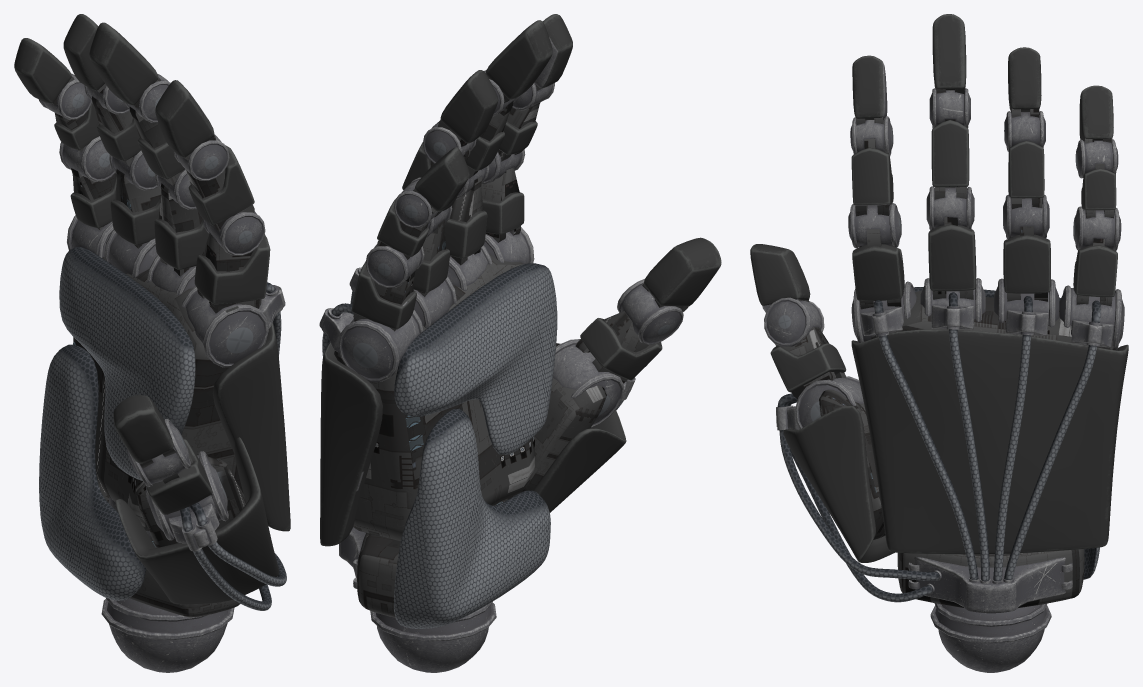
File: robotic_hand.glb
3 views of the same model, side by side, from view 1: azimuth 30°, elevation 25°; view 2: azimuth 150°, elevation 25°; view 3: azimuth 270°, elevation 25° (orthographic). The views are drawn at different scales.
Visible parts, largest first — view 1: pCube41, pCube42, pCube43, pCube26, pCube19, pSphere5, polySurface3, pCube20, polySurface19, polySurface17, pCube21, pCube22 (+13 smaller); view 2: pCube41, pCube42, pSphere5, pCube26, pCube24, polySurface28, polySurface19, polySurface3, pCube43, polySurface31, polySurface1, pCube19 (+12 smaller); view 3: pCube26, polySurface39, pCube43, polySurface3, pCube27, polySurface19, polySurface28, pCube21, pCube22, pCube20, polySurface12, pCube24 (+14 smaller).
Part boxes in pixels (left/top/right/bottom): pCube41: left=39, top=344, right=146, bottom=600; pCube42: left=59, top=246, right=195, bottom=480; pCube43: left=115, top=437, right=279, bottom=604; pCube26: left=212, top=322, right=290, bottom=531; pCube19: left=182, top=232, right=270, bottom=367; pSphere5: left=73, top=257, right=243, bottom=537; polySurface3: left=100, top=488, right=245, bottom=639; pCube20: left=186, top=145, right=265, bottom=255; polySurface19: left=113, top=395, right=190, bottom=486; polySurface17: left=155, top=80, right=229, bottom=180; pCube21: left=147, top=183, right=208, bottom=295; pCube22: left=104, top=169, right=161, bottom=278; pCube41: left=393, top=408, right=550, bottom=628; pCube42: left=394, top=263, right=557, bottom=454; pSphere5: left=334, top=254, right=534, bottom=541; pCube26: left=320, top=342, right=382, bottom=546; pCube24: left=338, top=261, right=423, bottom=381; polySurface28: left=553, top=311, right=662, bottom=427; polySurface19: left=617, top=237, right=721, bottom=344; polySurface3: left=357, top=500, right=504, bottom=641; pCube43: left=504, top=410, right=626, bottom=512; polySurface31: left=422, top=70, right=498, bottom=163; polySurface1: left=507, top=343, right=606, bottom=499; pCube19: left=481, top=167, right=534, bottom=264; pCube26: left=851, top=329, right=1128, bottom=554; polySurface39: left=777, top=292, right=1100, bottom=602; pCube43: left=783, top=406, right=895, bottom=562; polySurface3: left=897, top=549, right=1084, bottom=643; pCube27: left=914, top=557, right=1065, bottom=613; polySurface19: left=750, top=244, right=824, bottom=346; polySurface28: left=770, top=327, right=863, bottom=428; pCube21: left=920, top=217, right=985, bottom=321; pCube22: left=994, top=226, right=1059, bottom=327; pCube20: left=848, top=138, right=901, bottom=248; polySurface12: left=926, top=119, right=974, bottom=230; pCube24: left=1059, top=238, right=1124, bottom=350.
Bounding box in the file's own units: 0.0612 × 0.1482 × 0.0825.
8 materials, 8 textured.
